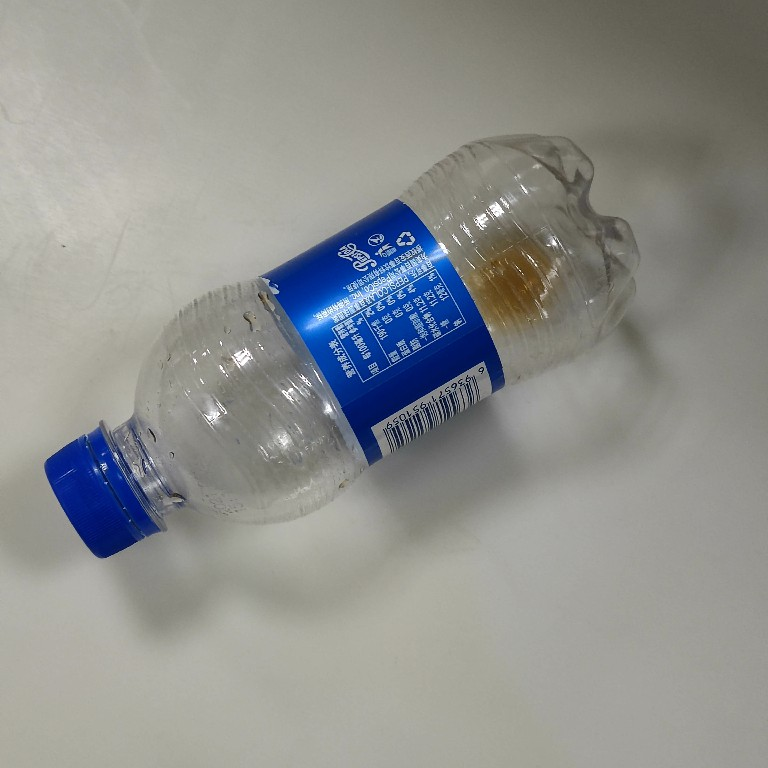bottle: (34, 122, 646, 565)
